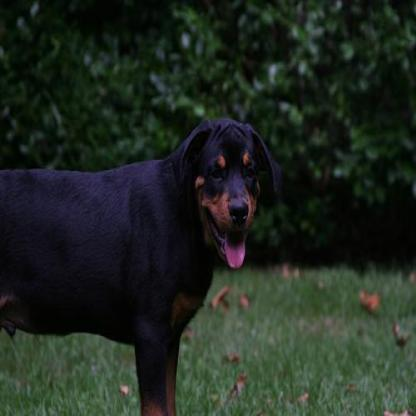Rottweiler: (0, 115, 279, 413)
